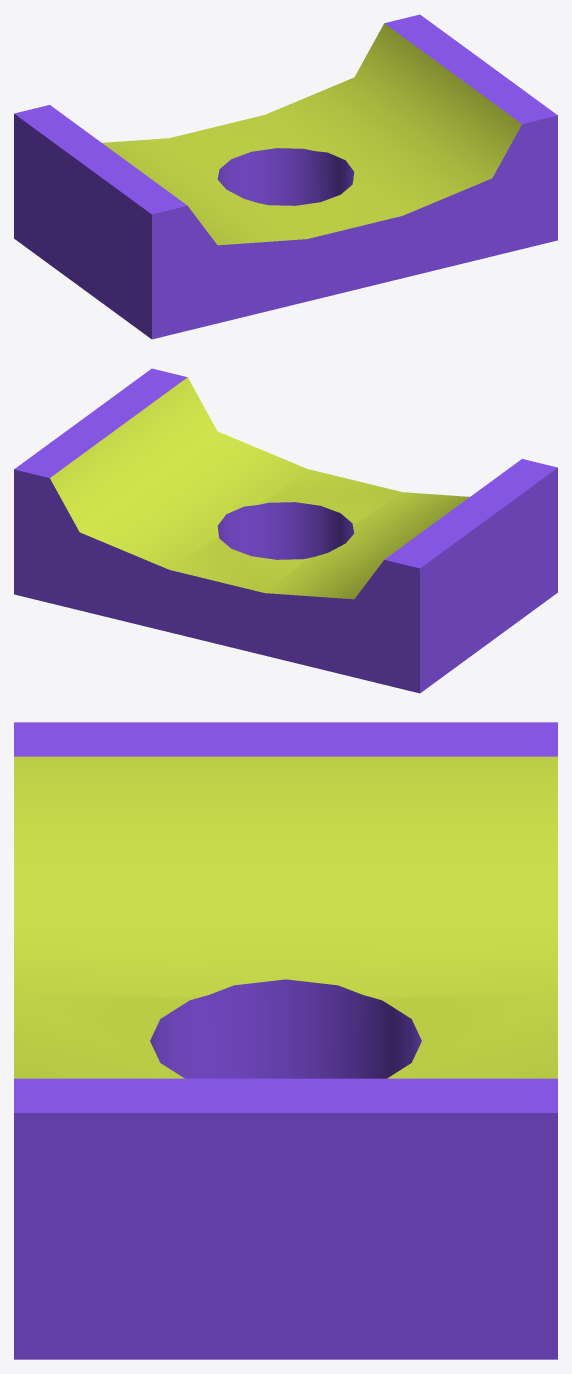
Rendered from straight_wide_hole.fbx.
The picture shows the model from 3 angles, top to bottom: view 1: azimuth 30°, elevation 25°; view 2: azimuth 150°, elevation 25°; view 3: azimuth 270°, elevation 25°; orthographic projection. The views are drawn at different scales.
Parts seen in each view (by area): view 1: straight_wide_hole; view 2: straight_wide_hole; view 3: straight_wide_hole.
Part boxes in pixels (bbox=[...]): straight_wide_hole: bbox=[14, 14, 557, 339]; straight_wide_hole: bbox=[14, 368, 557, 693]; straight_wide_hole: bbox=[14, 722, 557, 1359].
Bounding box in the file's own units: 17 × 5 × 10.
